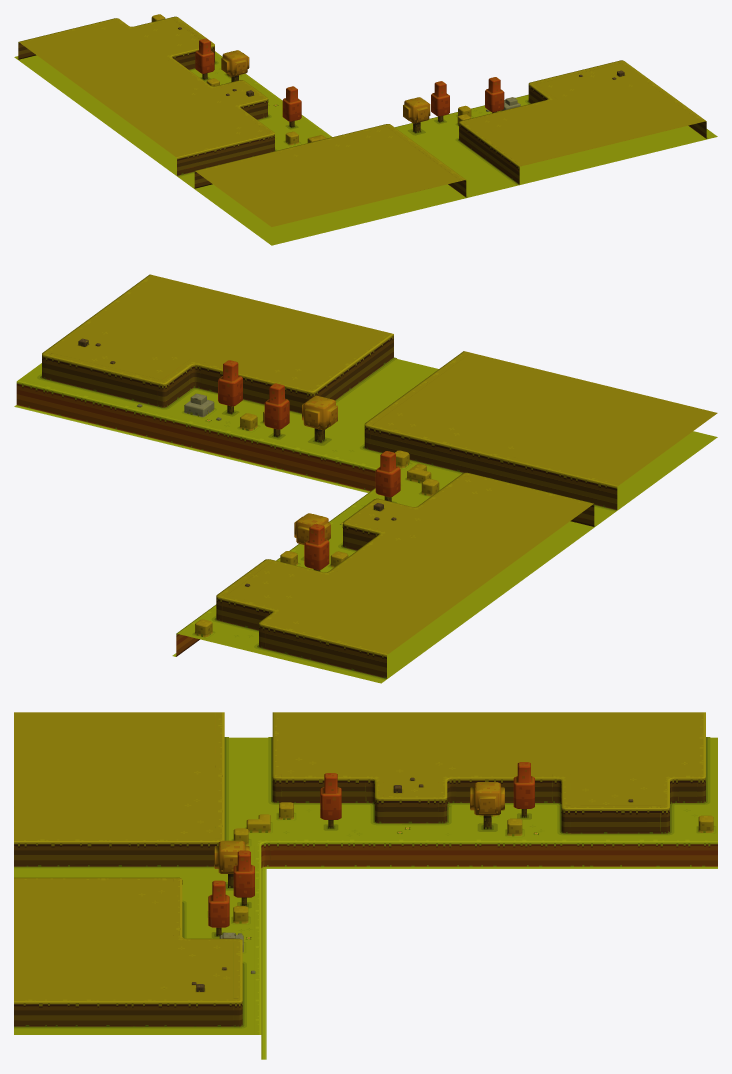
Rendered from C_grass2_out_RU.fbx.
The picture shows the model from 3 angles, top to bottom: view 1: azimuth 30°, elevation 25°; view 2: azimuth 150°, elevation 25°; view 3: azimuth 270°, elevation 25°; orthographic projection. The views are drawn at different scales.
Visible parts, largest first — view 1: C_grass2_out_RU; view 2: C_grass2_out_RU; view 3: C_grass2_out_RU.
Boxes of the visible parts, x1,y1,x2,y2 form: C_grass2_out_RU: [14, 14, 717, 245]; C_grass2_out_RU: [14, 274, 717, 683]; C_grass2_out_RU: [14, 712, 717, 1059].
Size of the model in its own units: 117 by 14.32 by 117.
